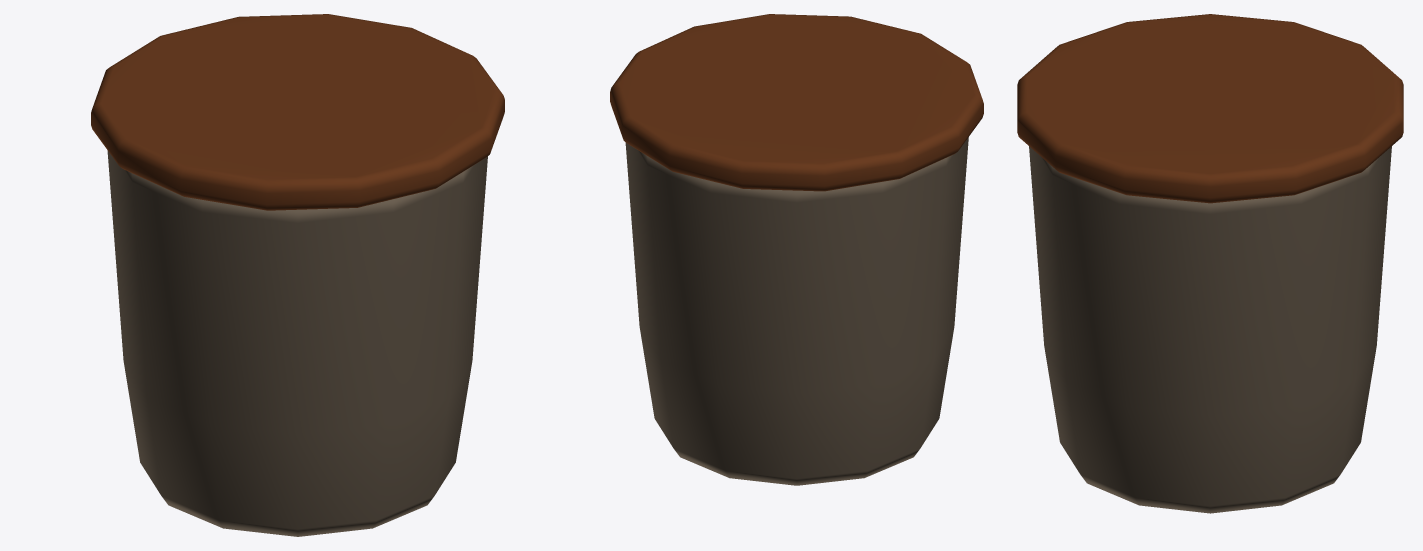
File: side-table-lod2.glb
3 renders of one model, left to right at view 1: azimuth 30°, elevation 25°; view 2: azimuth 150°, elevation 25°; view 3: azimuth 270°, elevation 25°, orthographic. The views are drawn at different scales.
Parts seen in each view (by area): view 1: Warm cast concrete, Oiled teak; view 2: Warm cast concrete, Oiled teak; view 3: Warm cast concrete, Oiled teak.
Part boxes in pixels (x1,y1,x2,y2): Warm cast concrete: (107,150,487,536); Oiled teak: (91,14,504,210); Warm cast concrete: (625,137,968,485); Oiled teak: (610,14,983,191); Warm cast concrete: (1029,146,1391,513); Oiled teak: (1017,14,1403,203).
Size of the model in its own units: 0.508 by 0.508 by 0.508.
